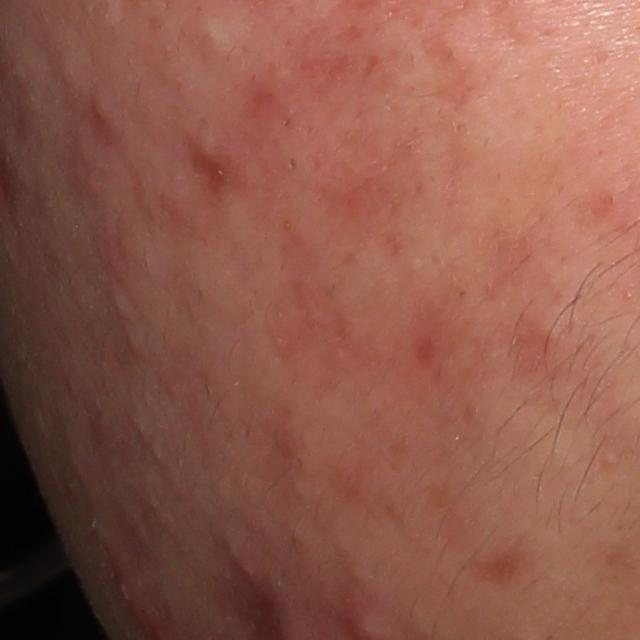comedo: (187, 7, 240, 66)
papule: (110, 569, 152, 622), (87, 96, 122, 139)
